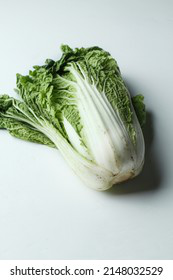Sawi: (7, 33, 158, 198)
